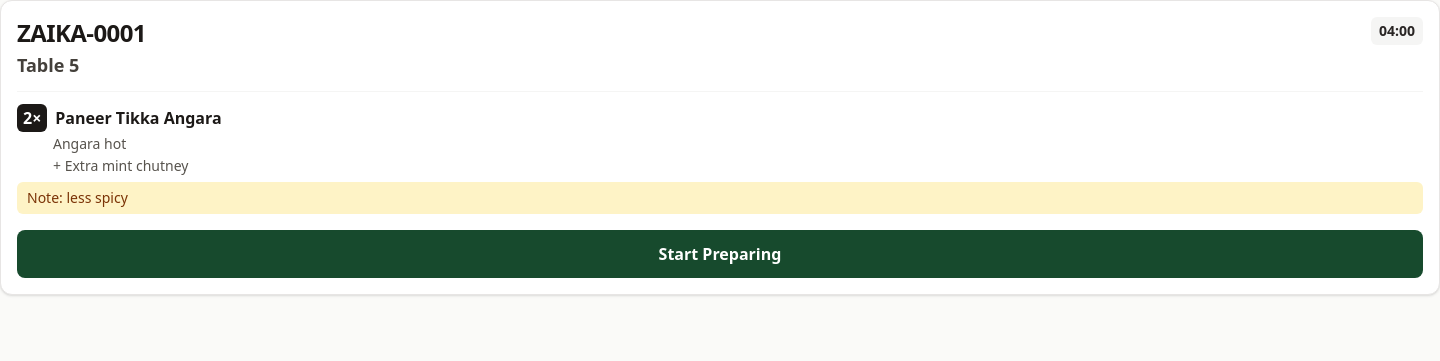
it: OrderTicket › shows the error on the ticket and stays put when the transition fails
The image size is (1440, 361).
Click the button "Start Preparing": x=720, y=254 top-left (17, 230), bottom-right (1423, 278)
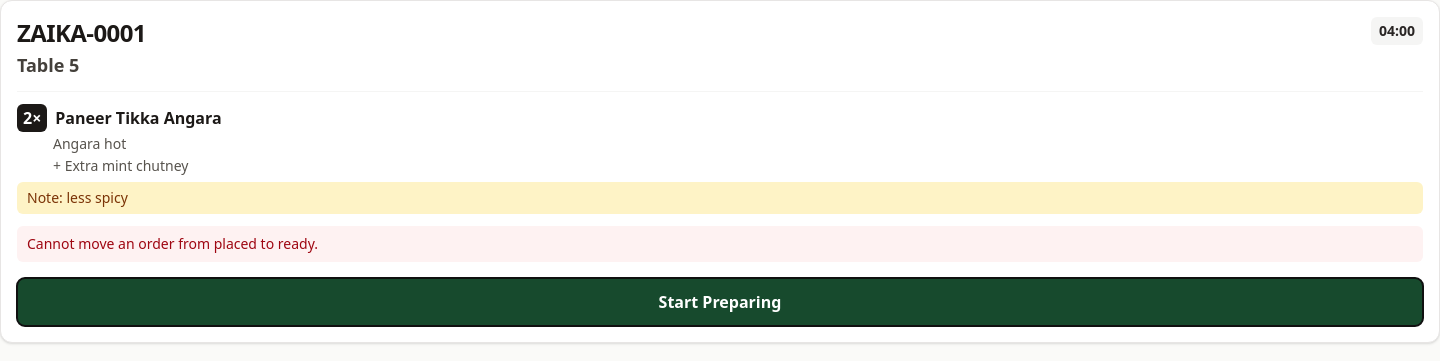
Check: the text "ZAIKA-0001" is shown, box top-left (17, 17), bottom-right (146, 49)
Check: the text "Cannot move an order from placed to ready." is shown, box top-left (17, 226), bottom-right (1423, 262)
